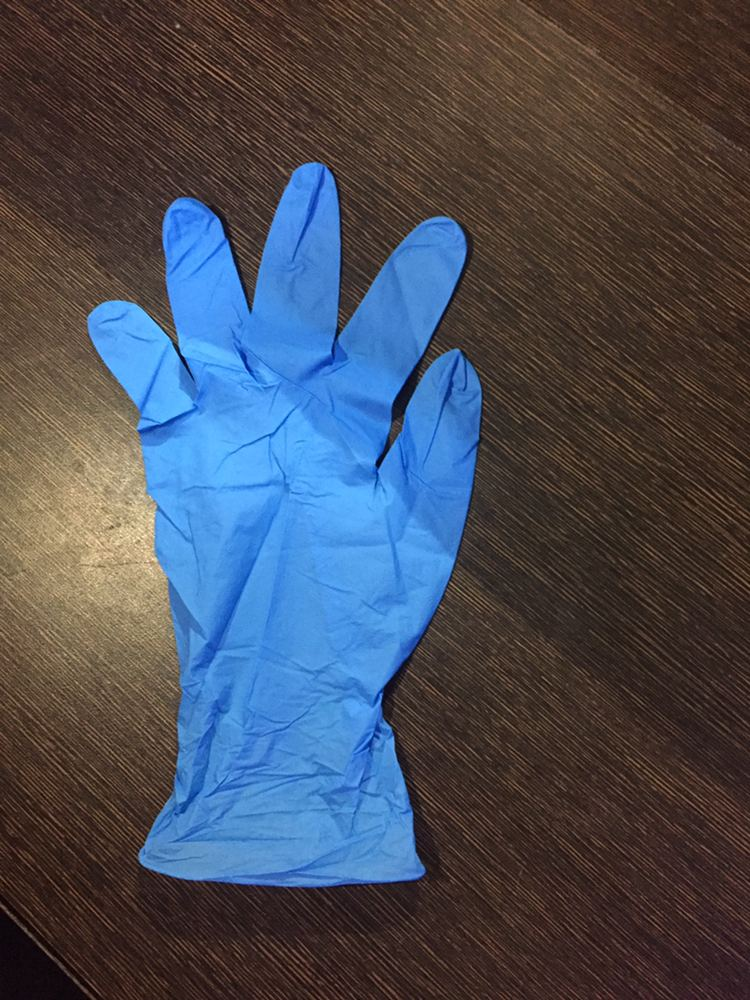glove: (54, 162, 542, 783)
